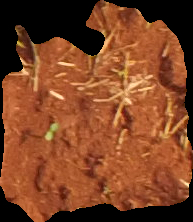soil: (1, 1, 192, 221)
